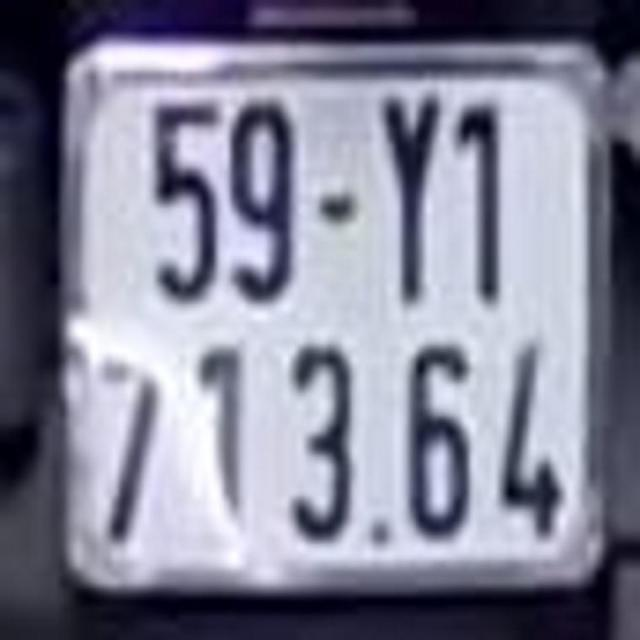1: (449, 93, 514, 300), (195, 344, 255, 542)
3: (290, 344, 353, 538)
4: (497, 340, 565, 530)
5: (152, 101, 222, 290)
6: (402, 340, 476, 540)
7: (96, 351, 164, 546)
9: (231, 104, 291, 294)
Y: (378, 100, 442, 300)
